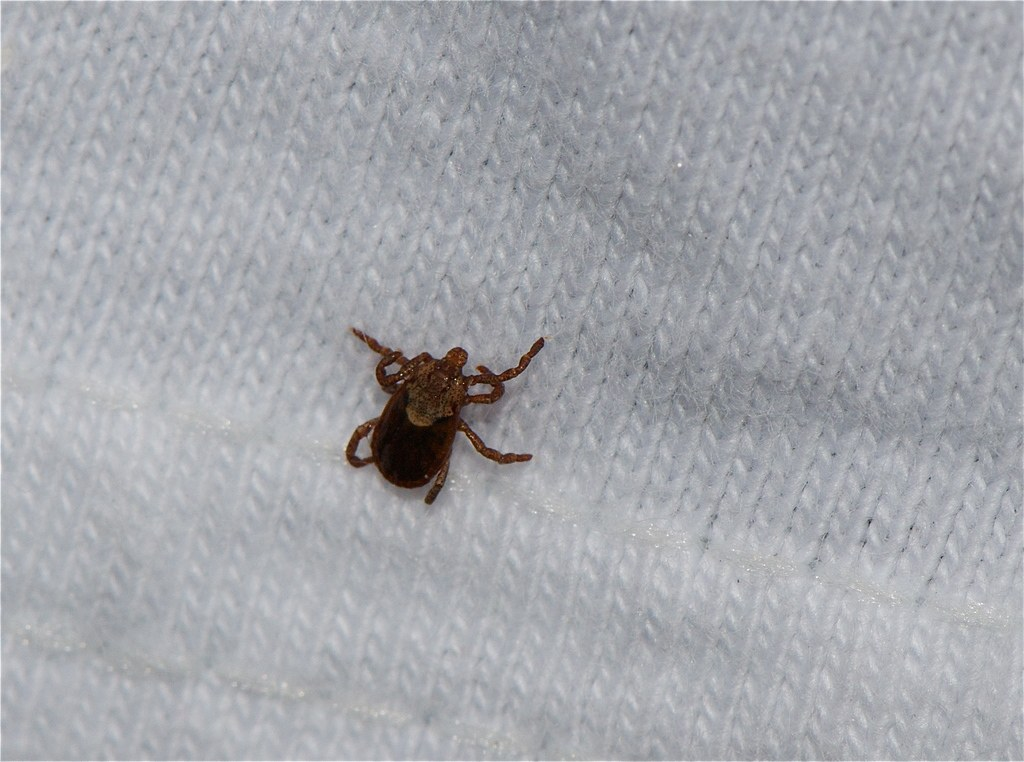insect: (345, 323, 544, 509), (350, 327, 543, 505)
